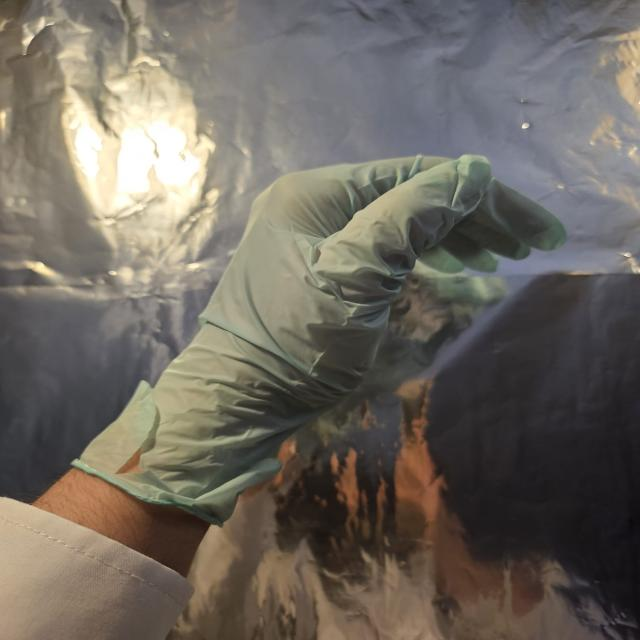gloves_damaged: (67, 153, 570, 531)
